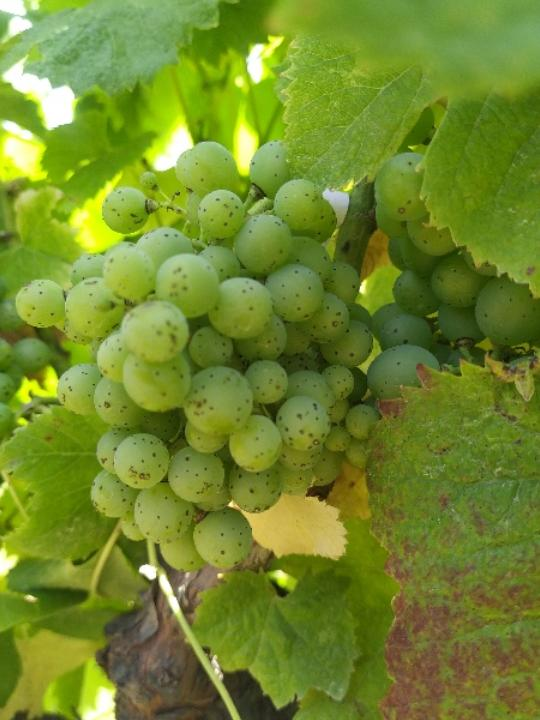grape: (15, 139, 383, 575)
